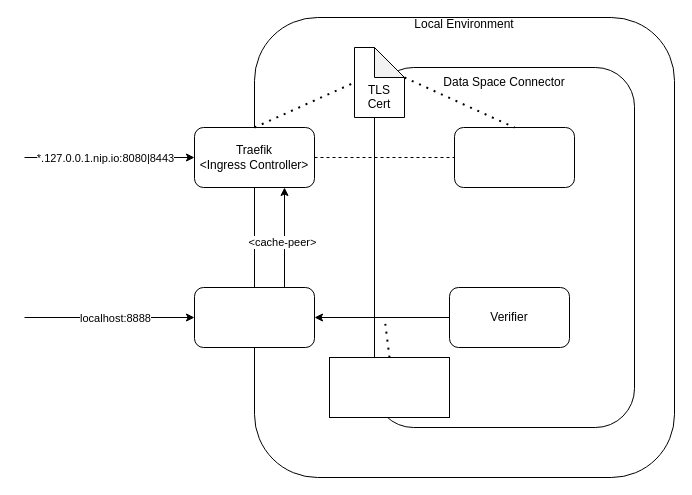
This 692x495 diagram has some shape labels left out. The centre of each missing label's shape, as x and y in pixels:
"DID-Json" belongs at pixel 514 157.
"Proxy Address: localhost:8888 Original Host: https://fancy-marketplace.biz" belongs at pixel 389 387.
"Squid <Forward Proxy>" belongs at pixel 254 317.
